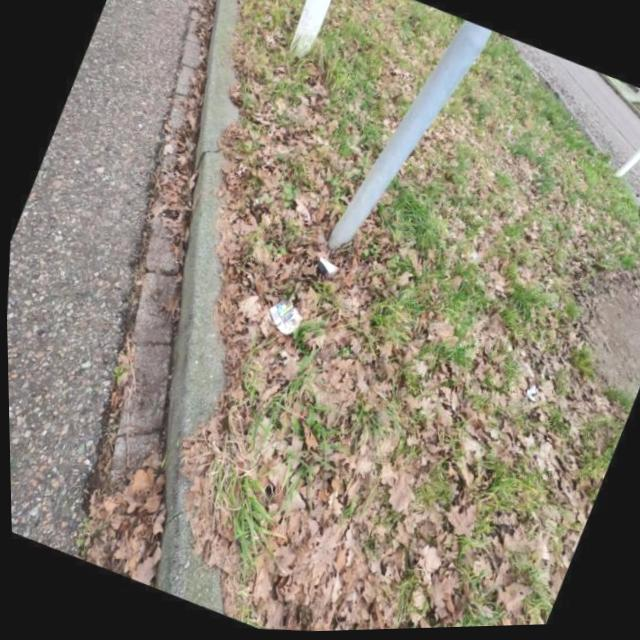Cup: (315, 257, 337, 277)
Paper: (264, 297, 305, 338)
